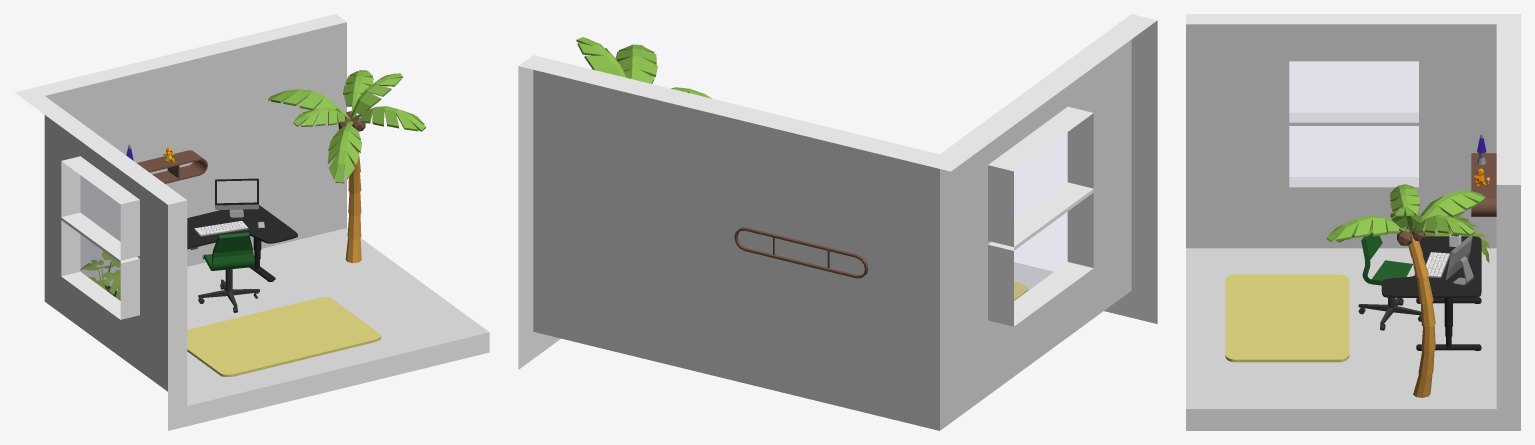
3 views of the same model, side by side, from view 1: azimuth 30°, elevation 25°; view 2: azimuth 150°, elevation 25°; view 3: azimuth 270°, elevation 25° (orthographic). The views are drawn at different scales.
Parts seen in each view (by area): view 1: Plane, WawaRug, palm_tree_01, Desk, Chair, iMac, SM_Shelf:SM_Shelf1, Houseplant_7, keyboard; view 2: Plane, palm_tree_01, SM_Shelf:SM_Shelf1; view 3: Plane, WawaRug, palm_tree_01, Desk, Chair, SM_Shelf:SM_Shelf1, iMac, keyboard, Houseplant_7.
Boxes of the visible parts, left/top/right/bottom form: Plane: left=14, top=14, right=489, bottom=430; WawaRug: left=187, top=297, right=381, bottom=376; palm_tree_01: left=268, top=70, right=425, bottom=263; Desk: left=187, top=205, right=297, bottom=281; Chair: left=198, top=232, right=259, bottom=312; iMac: left=215, top=178, right=259, bottom=217; SM_Shelf:SM_Shelf1: left=137, top=150, right=207, bottom=183; Houseplant_7: left=80, top=251, right=120, bottom=300; keyboard: left=194, top=221, right=248, bottom=236; Plane: left=518, top=14, right=1157, bottom=430; palm_tree_01: left=576, top=37, right=711, bottom=98; SM_Shelf:SM_Shelf1: left=734, top=227, right=868, bottom=278; Plane: left=1186, top=14, right=1520, bottom=430; WawaRug: left=1225, top=274, right=1349, bottom=362; palm_tree_01: left=1326, top=184, right=1486, bottom=397; Desk: left=1381, top=236, right=1481, bottom=350; Chair: left=1358, top=232, right=1421, bottom=330; SM_Shelf:SM_Shelf1: left=1471, top=153, right=1496, bottom=216; iMac: left=1445, top=234, right=1473, bottom=285; keyboard: left=1426, top=252, right=1450, bottom=278; Houseplant_7: left=1406, top=214, right=1490, bottom=262.
Size of the model in its own units: 5.92 by 3.84 by 4.74.
